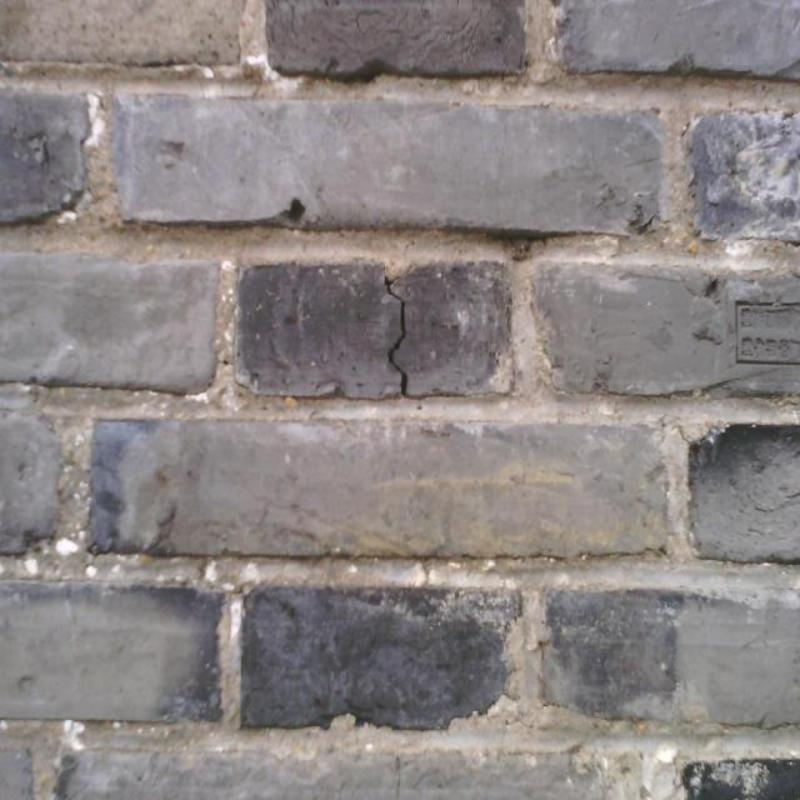pothole: (385, 276, 408, 393)
